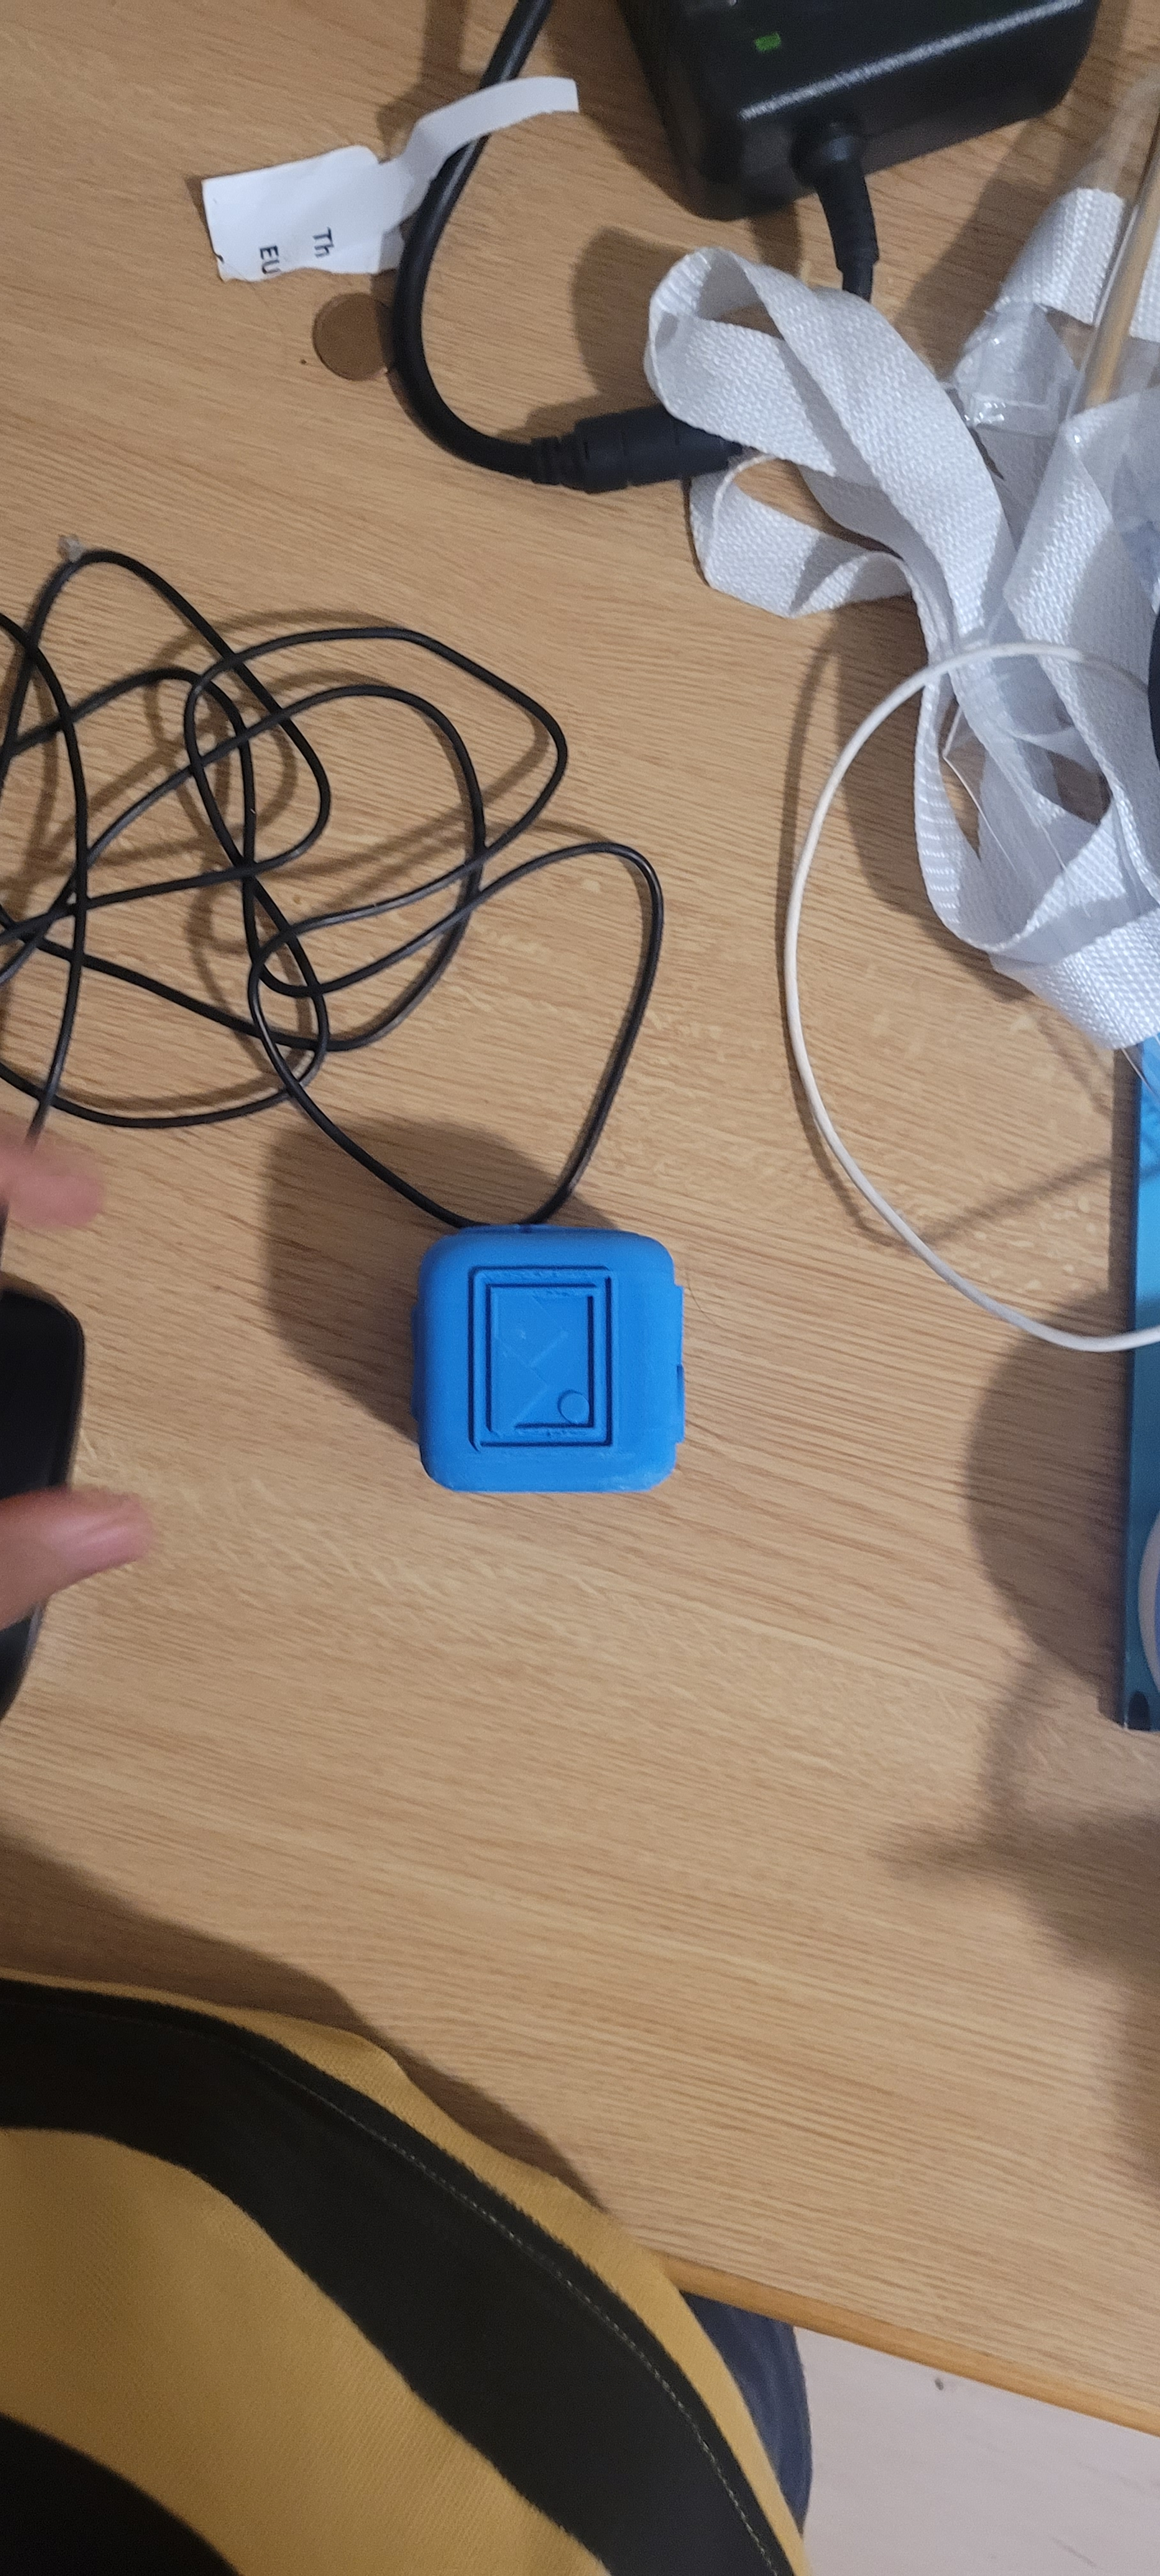Story: (437, 1255, 633, 1451)
